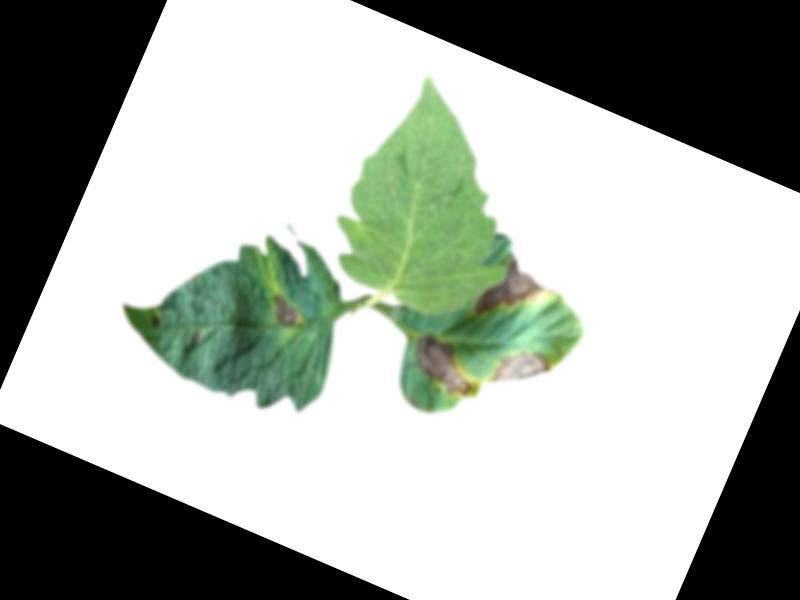Early_blight: (472, 250, 548, 332), (406, 329, 488, 400), (488, 341, 558, 406), (265, 289, 306, 331), (148, 312, 165, 330)
